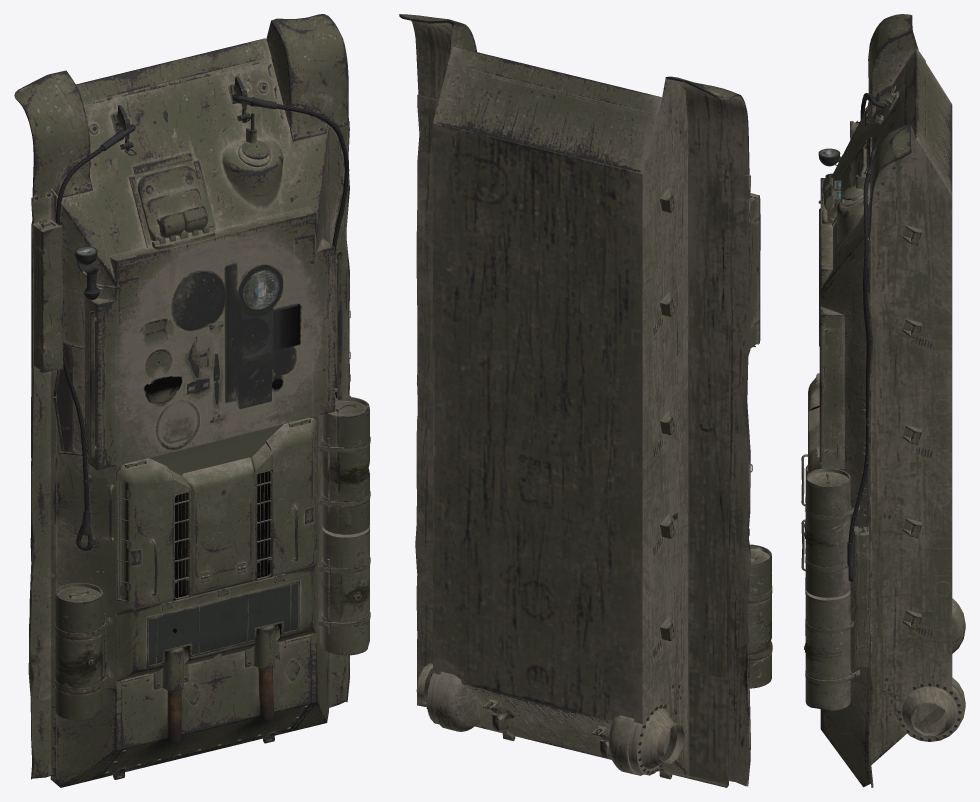
Rendered from Hull.glb.
The picture shows the model from 3 angles, left to right: view 1: azimuth 30°, elevation 25°; view 2: azimuth 150°, elevation 25°; view 3: azimuth 270°, elevation 25°; orthographic projection. The views are drawn at different scales.
Parts seen in each view (by area): view 1: set_0_group_0; view 2: set_0_group_0; view 3: set_0_group_0.
Part boxes in pixels (x1,y1,x2,y2): set_0_group_0: [14, 14, 370, 787]; set_0_group_0: [399, 14, 772, 787]; set_0_group_0: [801, 14, 965, 787].
Bounding box in the file's own units: 3.03 × 6.3 × 1.43.
1 material, 1 textured.
